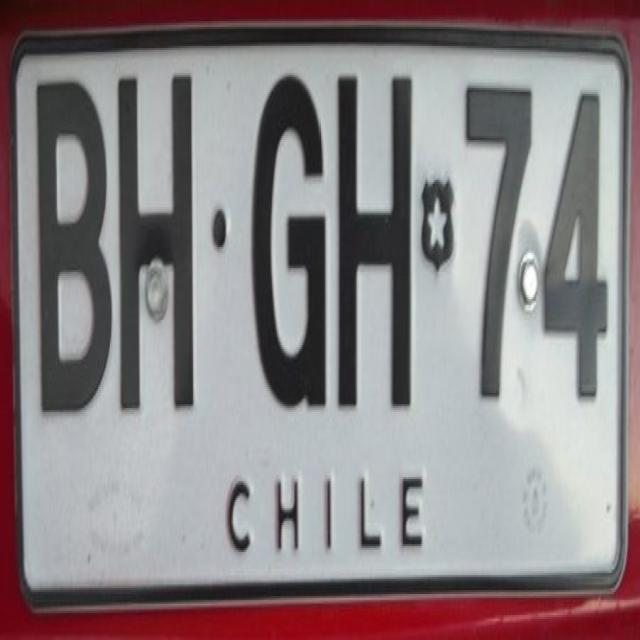patente: (6, 10, 632, 613)
